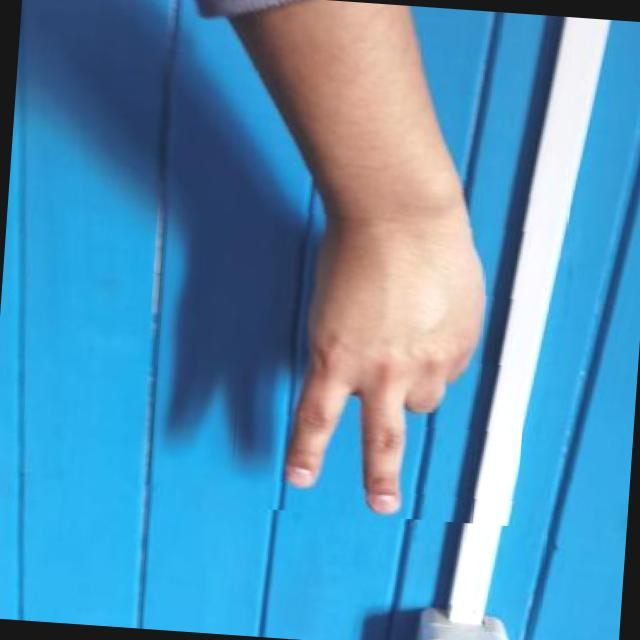N: (226, 174, 538, 526)
